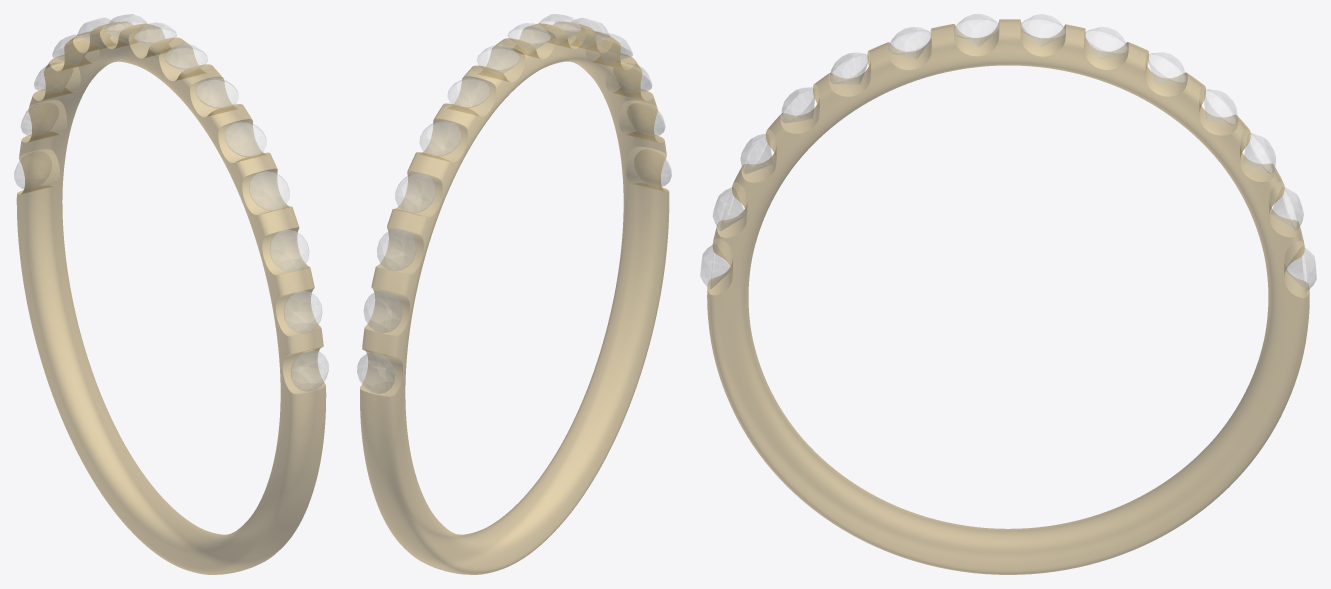
The picture shows the model from 3 angles, left to right: view 1: azimuth 30°, elevation 25°; view 2: azimuth 150°, elevation 25°; view 3: azimuth 270°, elevation 25°; orthographic projection. The views are drawn at different scales.
Visible parts, largest first — view 1: ring, diamond; view 2: ring, diamond; view 3: ring, diamond.
Boxes of the visible parts, x1,y1,x2,y2 form: ring: (16,22,326,574); diamond: (14,14,328,391); ring: (360,21,669,574); diamond: (357,14,671,393); ring: (707,19,1309,574); diamond: (700,14,1316,291).
Size of the model in its own units: 0.15 by 2 by 2.02.
